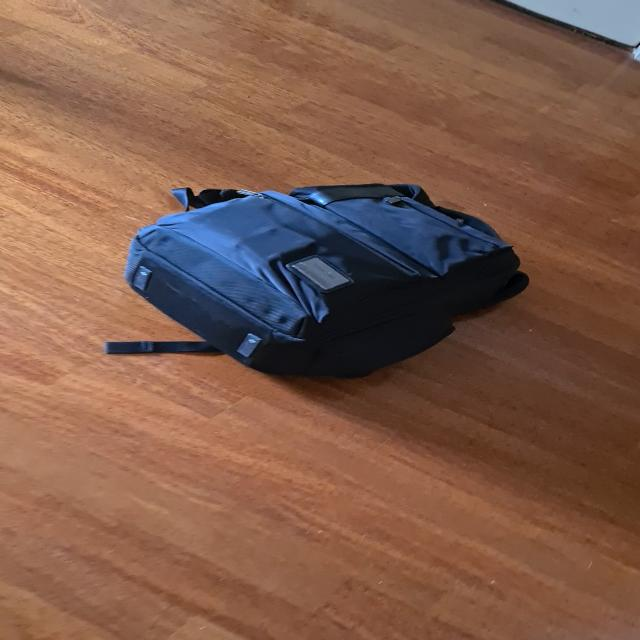backpack: (103, 169, 552, 385)
